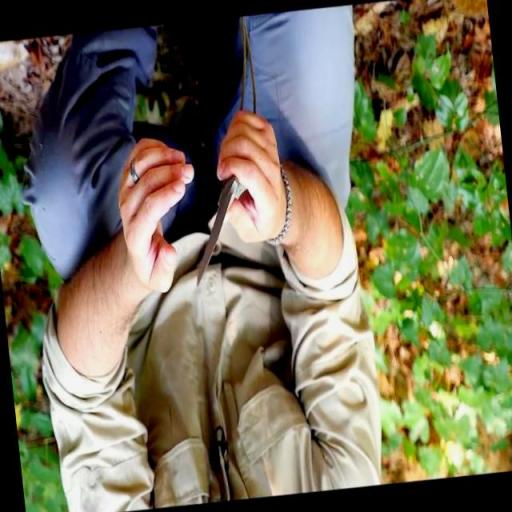knife: (177, 117, 290, 290)
